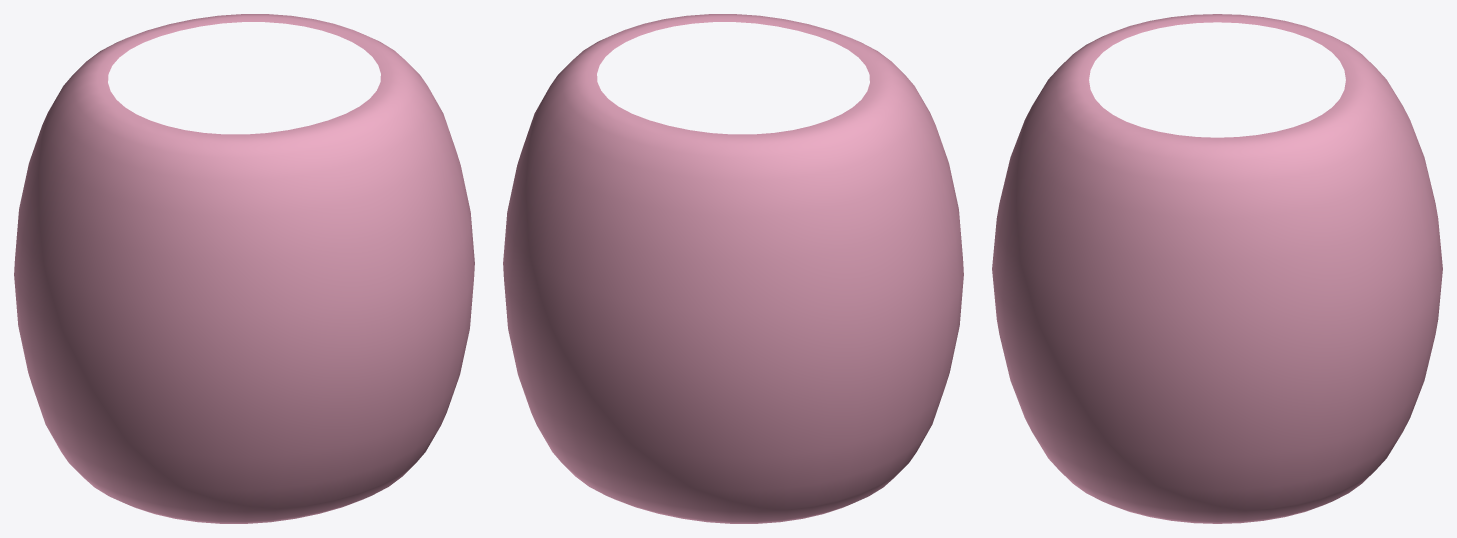
File: BobbinStringModel.gltf
The picture shows the model from 3 angles, left to right: view 1: azimuth 30°, elevation 25°; view 2: azimuth 150°, elevation 25°; view 3: azimuth 270°, elevation 25°; orthographic projection.
Visible parts, largest first — view 1: BobbinStringModel; view 2: BobbinStringModel; view 3: BobbinStringModel.
Part boxes in pixels (x1,y1,x2,y2): BobbinStringModel: [14, 14, 474, 523]; BobbinStringModel: [503, 14, 963, 523]; BobbinStringModel: [992, 14, 1442, 523].
Bounding box in the file's own units: 2.27 × 2.07 × 2.23.
